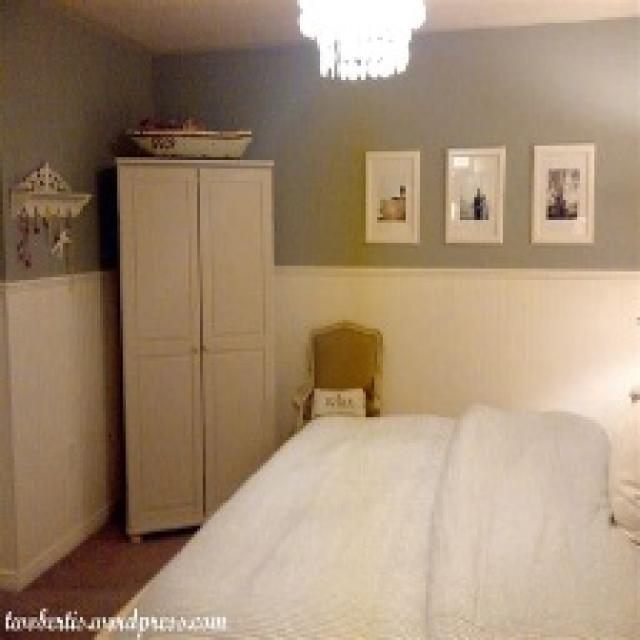Bed: (89, 317, 637, 637)
